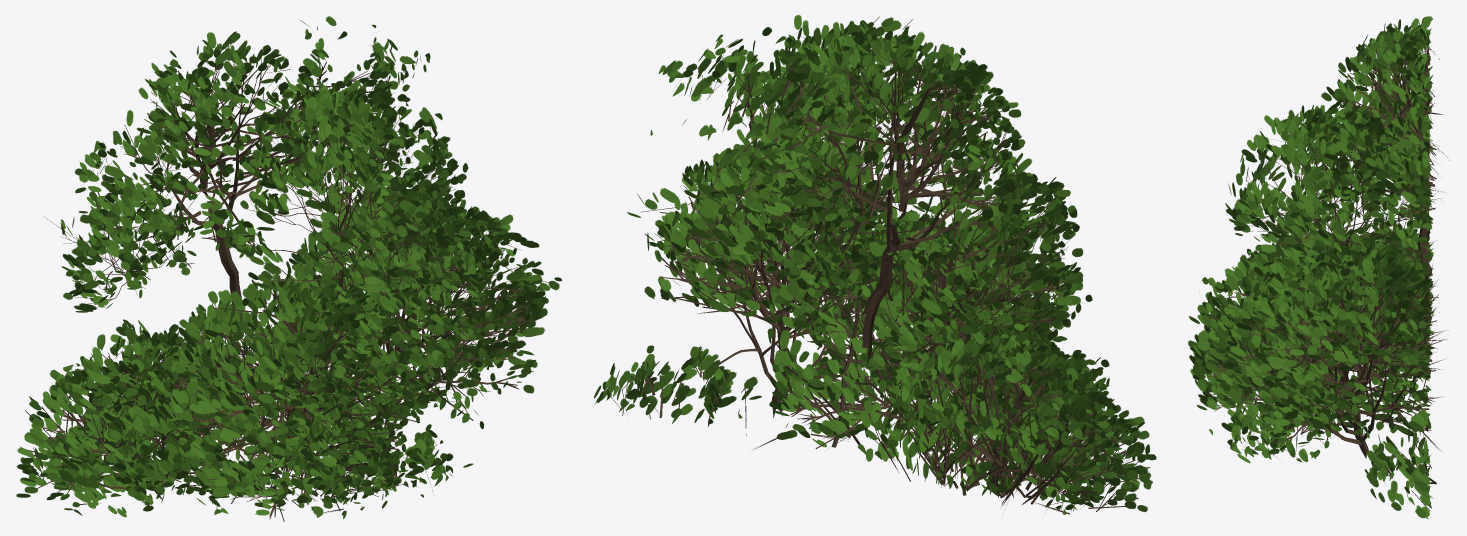
The picture shows the model from 3 angles, left to right: view 1: azimuth 30°, elevation 25°; view 2: azimuth 150°, elevation 25°; view 3: azimuth 270°, elevation 25°; orthographic projection. The views are drawn at different scales.
Visible parts, largest first — view 1: oak 01.001_trunk_Mat.001_0.180; view 2: oak 01.001_trunk_Mat.001_0.180; view 3: oak 01.001_trunk_Mat.001_0.180.
Boxes of the visible parts, <box> form: oak 01.001_trunk_Mat.001_0.180: <box>16,16,562,521</box>; oak 01.001_trunk_Mat.001_0.180: <box>594,14,1156,514</box>; oak 01.001_trunk_Mat.001_0.180: <box>1188,16,1448,519</box>.
Size of the model in its own units: 4.04 by 3.34 by 2.06.
2 materials, 1 textured.
